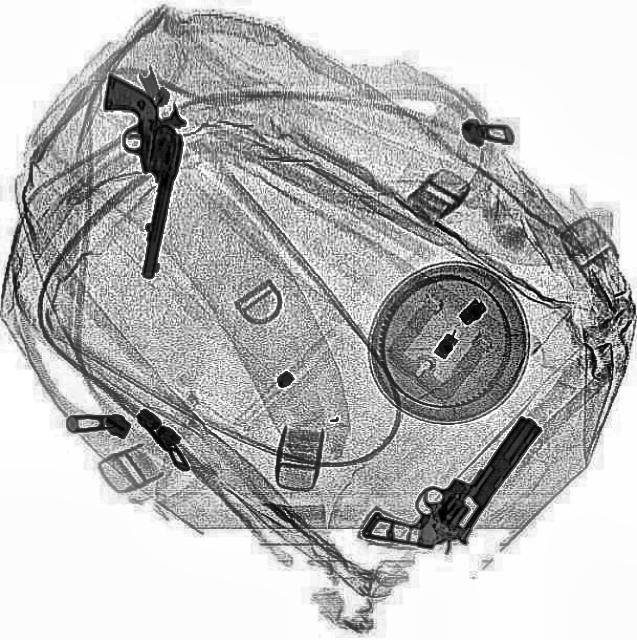Gun: (358, 378, 546, 582), (68, 69, 194, 281)
